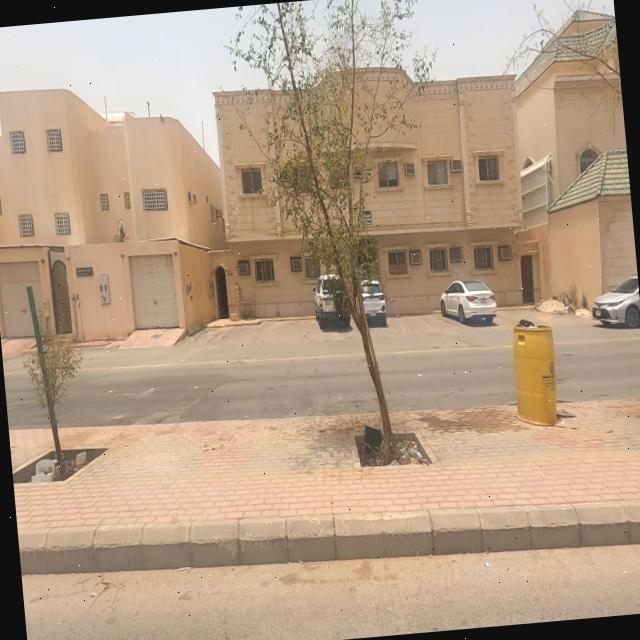Graffiti: (184, 274, 206, 304)
